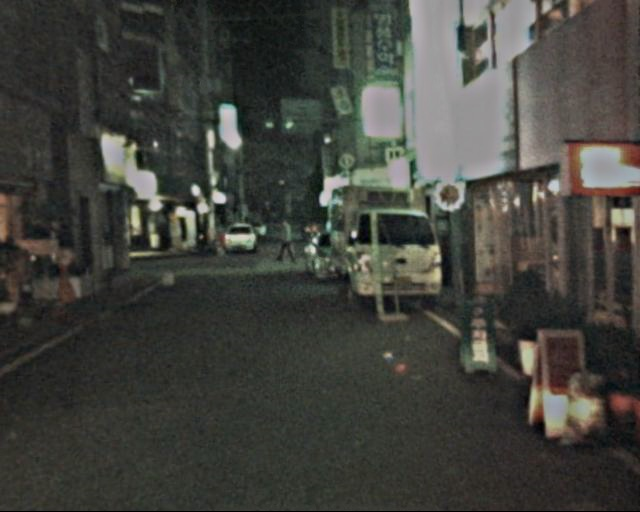person: (274, 217, 297, 266)
